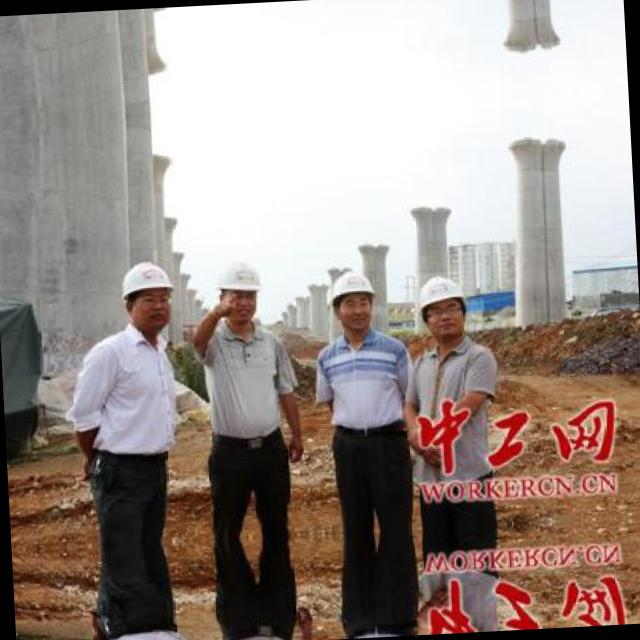helmet: (112, 250, 184, 340), (198, 241, 270, 331), (408, 259, 478, 349), (324, 263, 379, 337)
